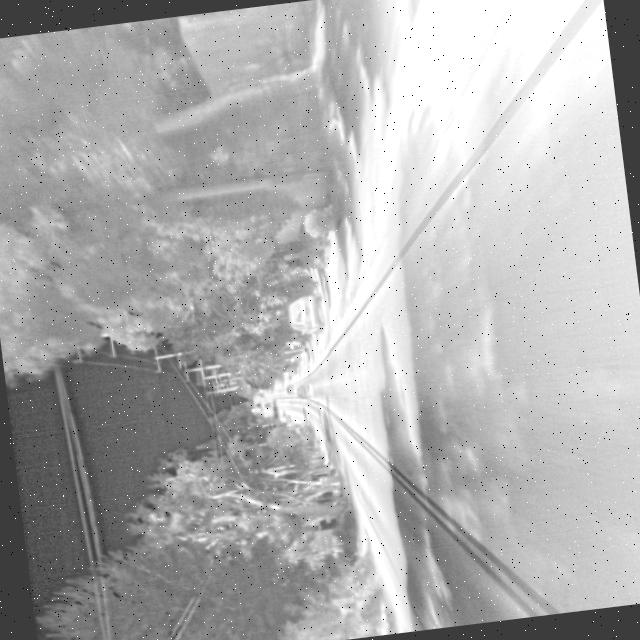Vehicle: (283, 292, 326, 338), (295, 382, 312, 399)
